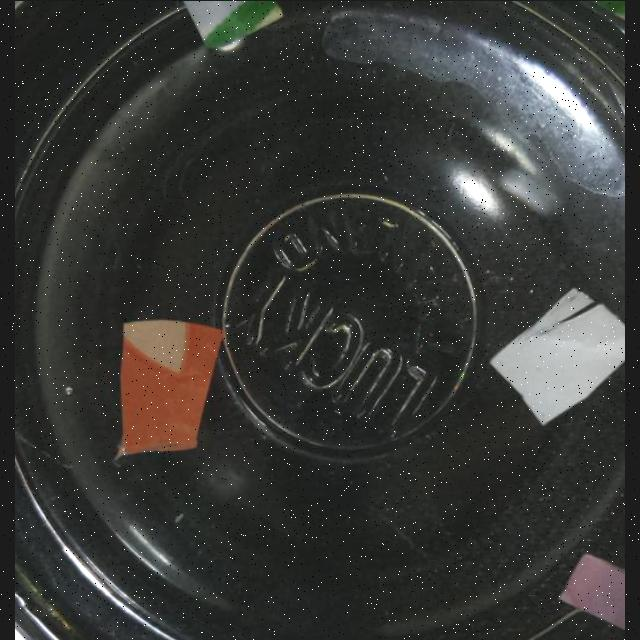Fragment: (489, 287, 625, 427), (117, 316, 226, 460), (555, 552, 625, 634), (180, 0, 286, 50)
